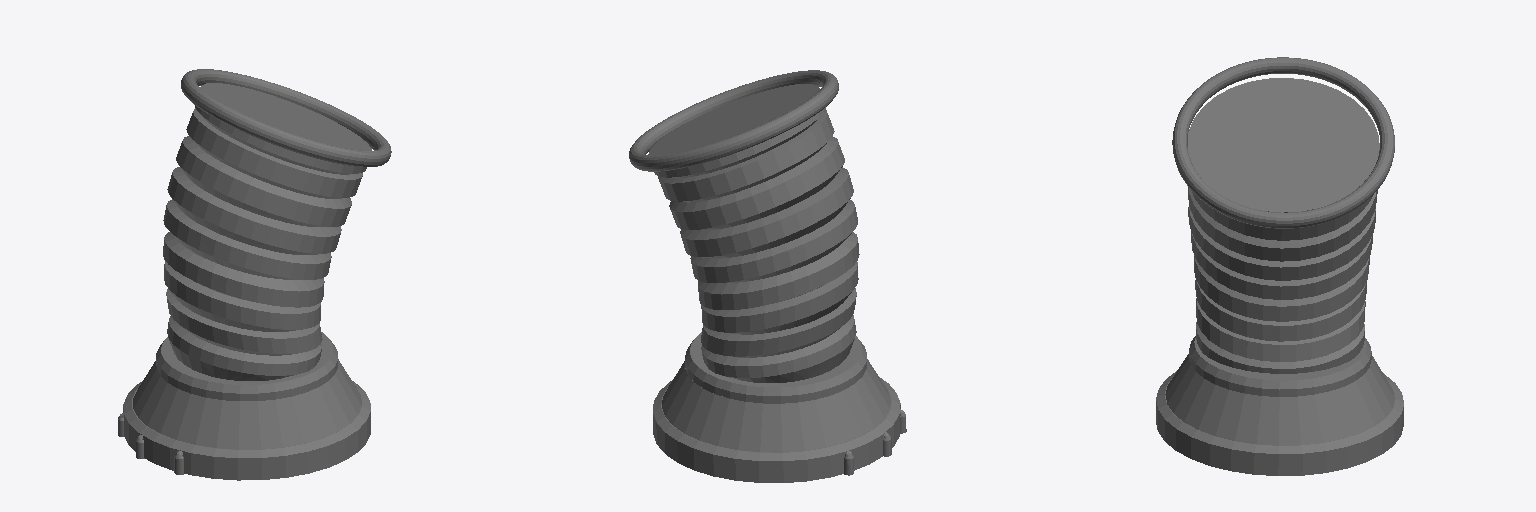
File: goddard_pata4.obj
The picture shows the model from 3 angles: view 1: azimuth 30°, elevation 25°; view 2: azimuth 150°, elevation 25°; view 3: azimuth 270°, elevation 25°; orthographic projection.
Visible parts, largest first — view 1: C_rculo_005_C_rculo_006, C_rculo_018_C_rculo_019, C_rculo_019_C_rculo_020, C_rculo_002, C_rculo_017_C_rculo_018, Cilindro_004_Cilindro_007; view 2: C_rculo_005_C_rculo_006, C_rculo_018_C_rculo_019, C_rculo_019_C_rculo_020, C_rculo_002, C_rculo_017_C_rculo_018, Cilindro_004_Cilindro_007; view 3: C_rculo_005_C_rculo_006, C_rculo_018_C_rculo_019, C_rculo_002, C_rculo_019_C_rculo_020, C_rculo_017_C_rculo_018.
Boxes of the visible parts, box(x1,y1,x2,y2) form: C_rculo_005_C_rculo_006: box(163, 83, 371, 380); C_rculo_018_C_rculo_019: box(133, 359, 361, 449); C_rculo_019_C_rculo_020: box(123, 381, 370, 480); C_rculo_002: box(181, 69, 391, 166); C_rculo_017_C_rculo_018: box(156, 332, 337, 400); Cilindro_004_Cilindro_007: box(118, 413, 183, 474); C_rculo_005_C_rculo_006: box(648, 84, 859, 382); C_rculo_018_C_rculo_019: box(662, 359, 890, 452); C_rculo_019_C_rculo_020: box(653, 378, 900, 482); C_rculo_002: box(629, 70, 838, 171); C_rculo_017_C_rculo_018: box(685, 332, 866, 403); Cilindro_004_Cilindro_007: box(844, 409, 906, 475); C_rculo_005_C_rculo_006: box(1188, 78, 1379, 373); C_rculo_018_C_rculo_019: box(1165, 354, 1394, 445); C_rculo_002: box(1172, 57, 1394, 228); C_rculo_019_C_rculo_020: box(1156, 371, 1403, 475); C_rculo_017_C_rculo_018: box(1189, 336, 1371, 396).
Bounding box in the file's own units: 1.16 × 1.59 × 1.03.